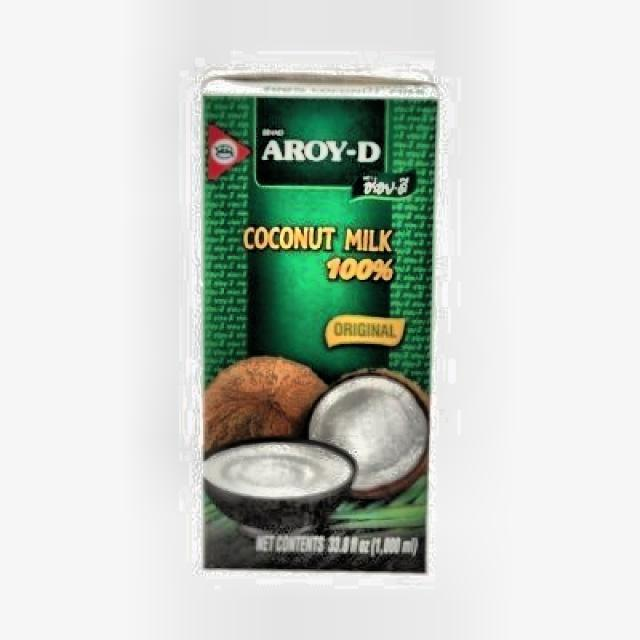cardboard: (200, 72, 438, 571)
